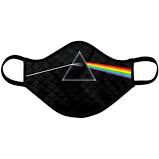cloth_mask: (1, 39, 159, 120)
